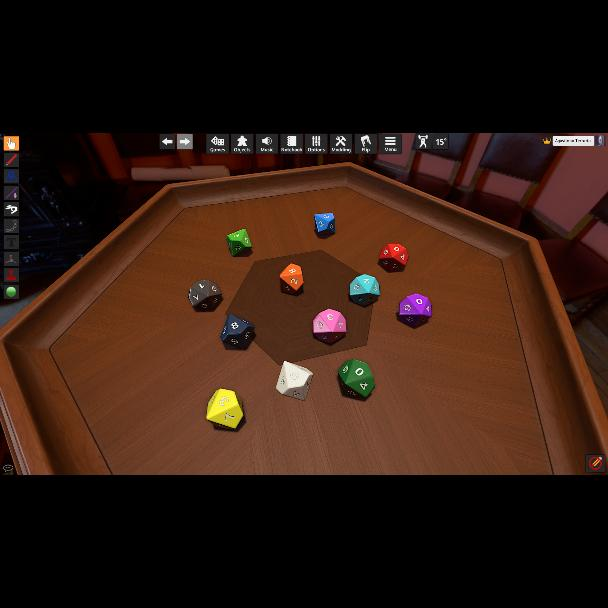d10: (276, 361, 314, 401), (207, 389, 244, 429), (336, 359, 372, 398), (219, 313, 253, 349), (312, 308, 345, 344), (399, 293, 430, 327), (188, 280, 220, 312), (350, 275, 378, 305), (378, 244, 406, 272), (280, 264, 304, 294), (227, 229, 252, 257), (314, 213, 335, 235)
